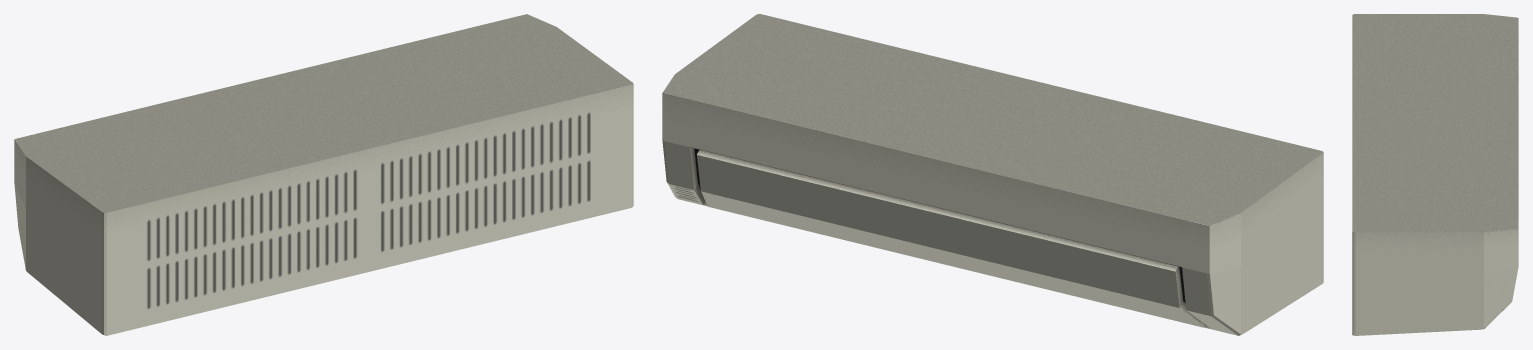
The model's file is air-conditioning2.glb.
3 views of the same model, side by side, from view 1: azimuth 30°, elevation 25°; view 2: azimuth 150°, elevation 25°; view 3: azimuth 270°, elevation 25° (orthographic). The views are drawn at different scales.
Parts seen in each view (by area): view 1: internal-unit; view 2: internal-unit; view 3: internal-unit.
Part boxes in pixels (x1=…): internal-unit: x1=14, y1=14, x2=633, y2=335; internal-unit: x1=662, y1=14, x2=1323, y2=335; internal-unit: x1=1352, y1=14, x2=1518, y2=335.
Size of the model in its own units: 8.85 by 1.98 by 2.85.
Materials: 1 (1 with a texture image).
